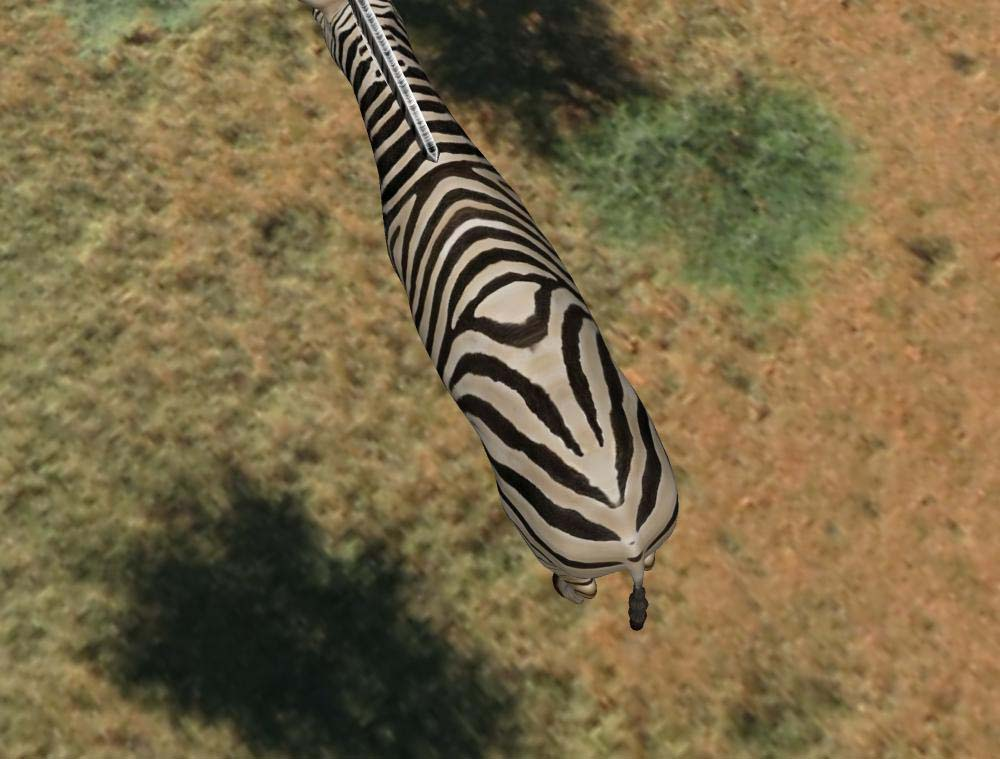zebra: (306, 1, 686, 645)
